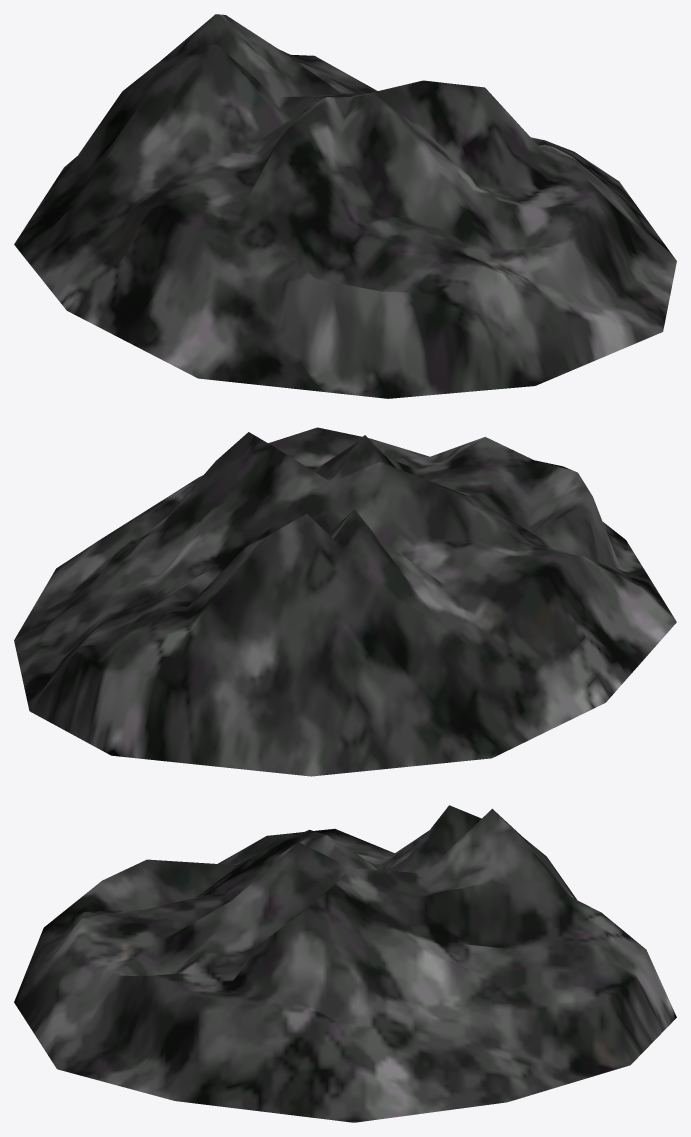
The model's file is INST_SWORDLIGHT_OREA.fbx.
3 renders of one model, top to bottom at view 1: azimuth 30°, elevation 25°; view 2: azimuth 150°, elevation 25°; view 3: azimuth 270°, elevation 25°, orthographic. The views are drawn at different scales.
Visible parts, largest first — view 1: INST_SWORDLIGHT_OREA; view 2: INST_SWORDLIGHT_OREA; view 3: INST_SWORDLIGHT_OREA.
Part boxes in pixels (left/top/right/bottom): INST_SWORDLIGHT_OREA: left=14, top=14, right=676, bottom=398; INST_SWORDLIGHT_OREA: left=14, top=427, right=676, bottom=776; INST_SWORDLIGHT_OREA: left=14, top=805, right=676, bottom=1122.
Bounding box in the file's own units: 12161 × 4032 × 14155.
Materials: 1 (1 with a texture image).
